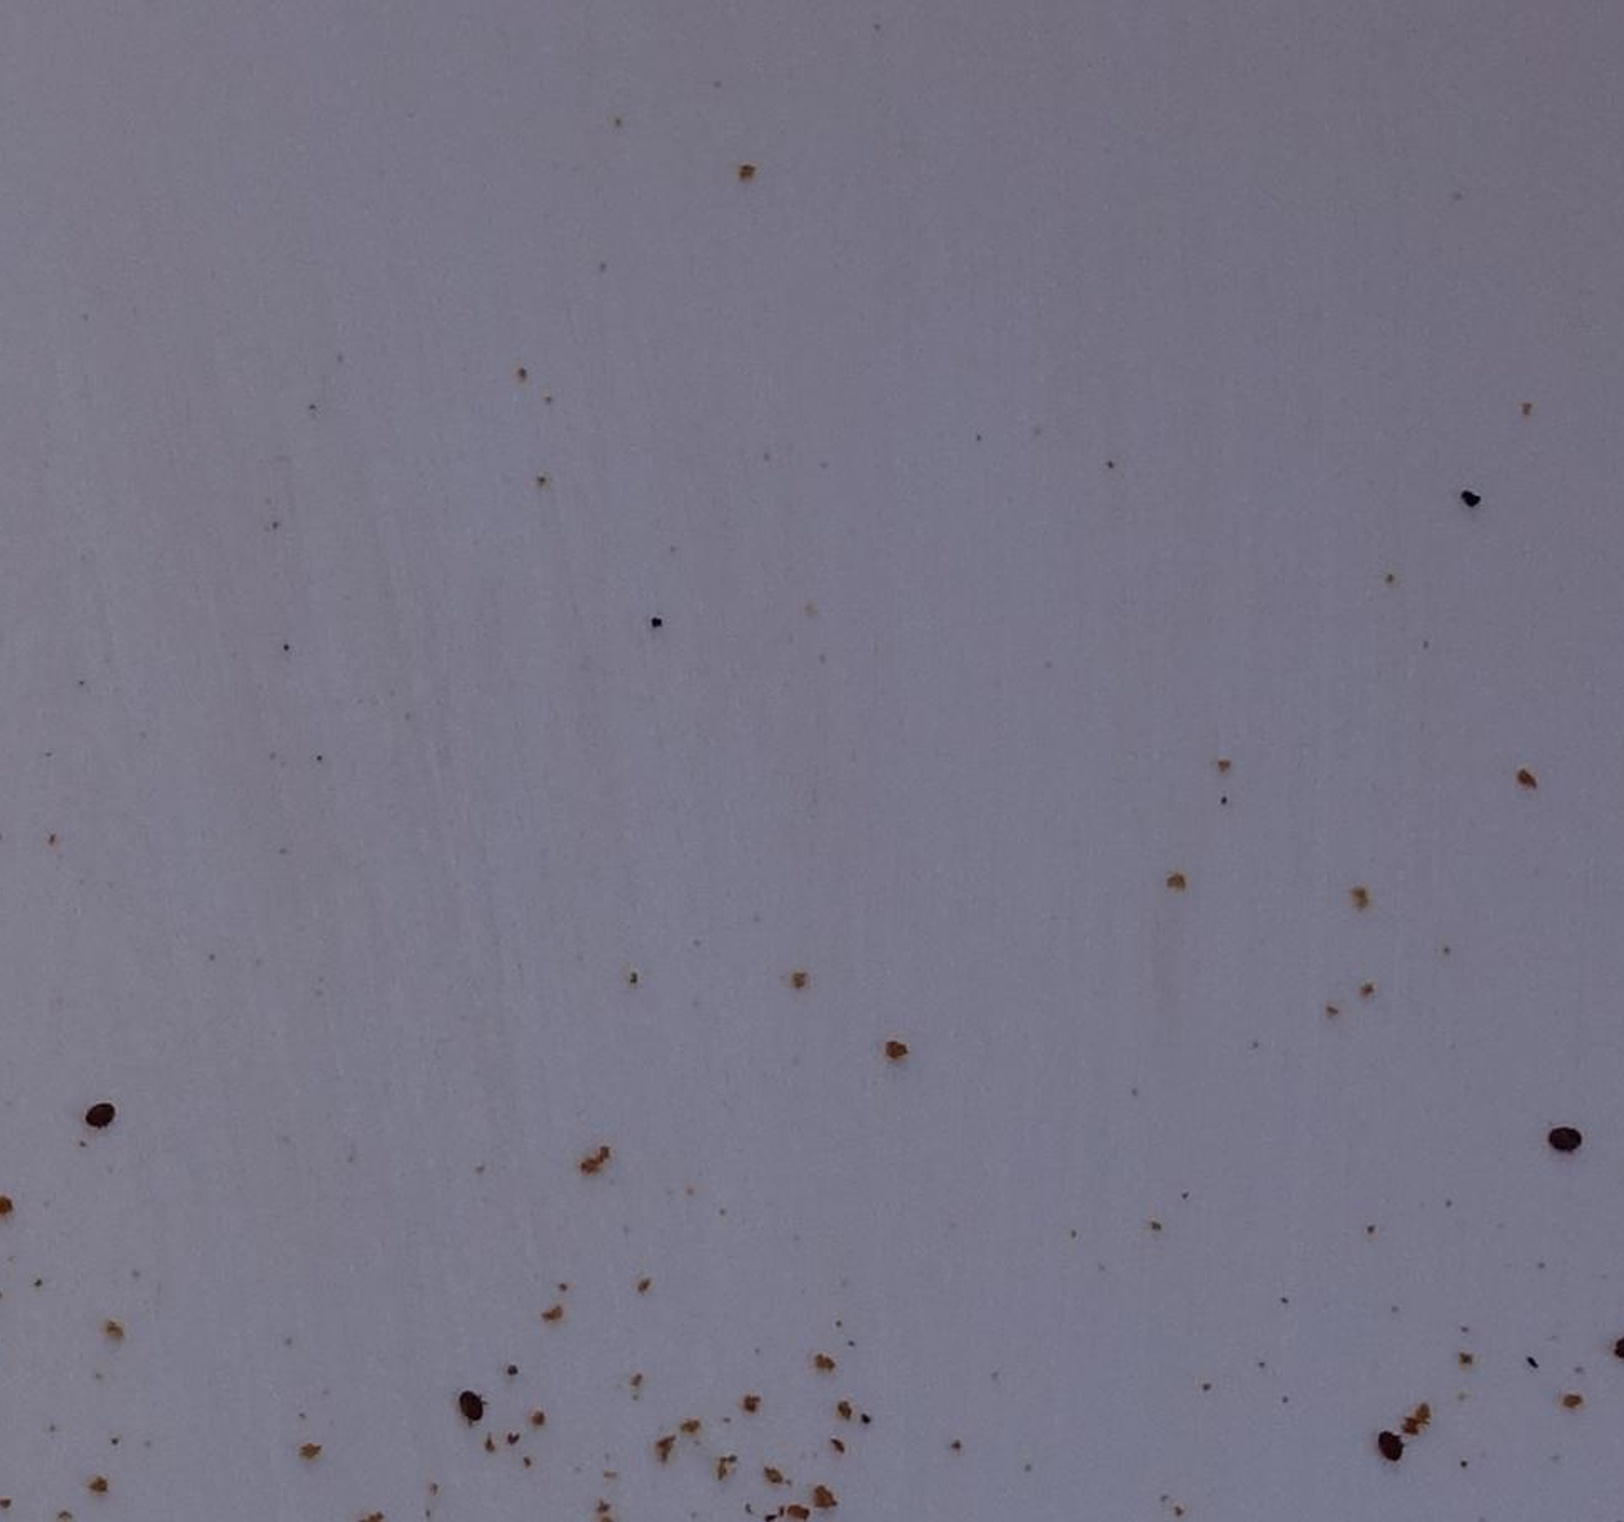Varroa: (456, 1386, 484, 1413), (1550, 1126, 1578, 1152), (94, 1101, 116, 1124), (1374, 1436, 1396, 1456)
